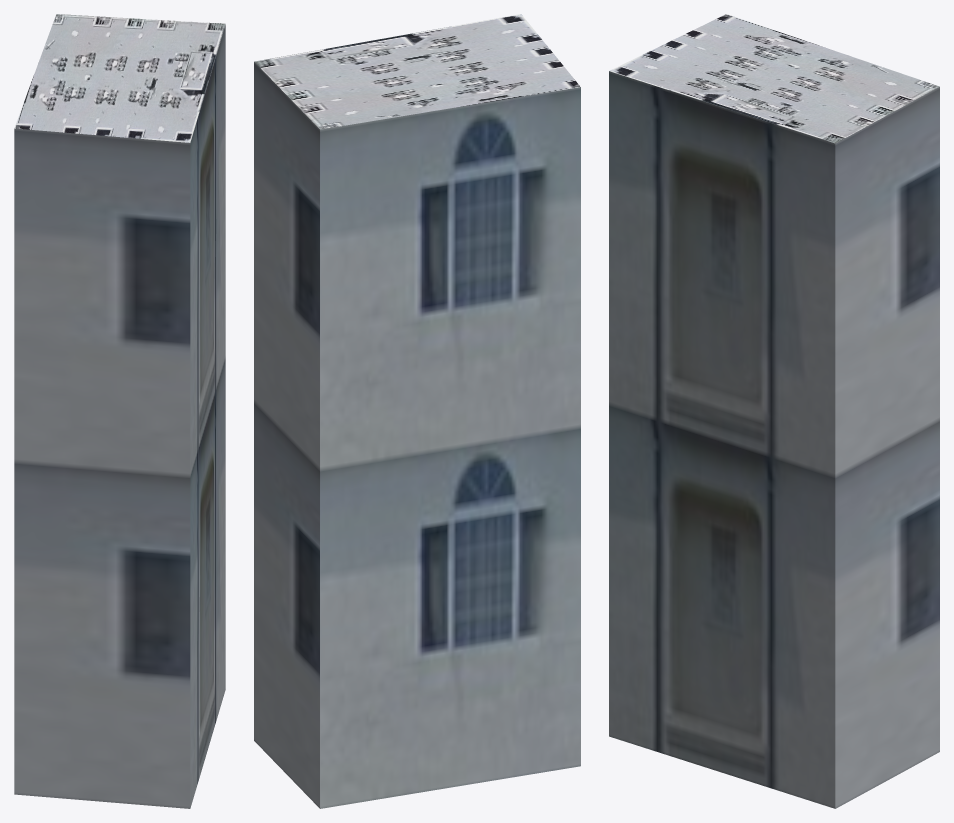
The model's file is ResTex__3420.fbx.
The picture shows the model from 3 angles, left to right: view 1: azimuth 30°, elevation 25°; view 2: azimuth 150°, elevation 25°; view 3: azimuth 270°, elevation 25°; orthographic projection. The views are drawn at different scales.
Visible parts, largest first — view 1: CityEngineMaterial_17_m, CityEngineMaterial_2_m; view 2: CityEngineMaterial_17_m, CityEngineMaterial_2_m; view 3: CityEngineMaterial_17_m, CityEngineMaterial_2_m.
Boxes of the visible parts, x1,y1,x2,y2 form: CityEngineMaterial_17_m: (14,24,225,808); CityEngineMaterial_2_m: (14,14,225,142); CityEngineMaterial_17_m: (254,62,580,808); CityEngineMaterial_2_m: (254,14,580,129); CityEngineMaterial_17_m: (609,71,939,808); CityEngineMaterial_2_m: (609,14,939,143).
Bounding box in the file's own units: 2.51 × 6 × 2.7.
2 materials, 2 textured.
